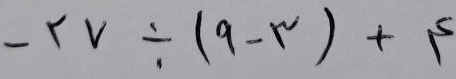character: (142, 19, 174, 69), (315, 7, 338, 71), (427, 15, 453, 67), (269, 15, 301, 56), (195, 10, 215, 69), (216, 20, 241, 60), (84, 18, 108, 51), (366, 25, 392, 52), (46, 14, 64, 51), (3, 41, 31, 55), (245, 38, 268, 51)
